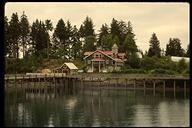house: (81, 47, 127, 74), (55, 61, 79, 74)
sky: (137, 6, 187, 31)
tree: (8, 15, 76, 53), (79, 19, 137, 45)
water: (4, 92, 187, 127)
